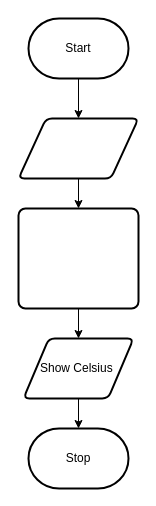
Some shapes in this 156 by 506 pixel diagram are drawn without their labels. The box of each missing label's shape, as (x1, y1, x2, y2) in pixels:
Celsius = (Fahrenheit - 32) x 5 / 9: (17, 207, 139, 309)
Get Fahrenheit: (17, 117, 139, 179)
